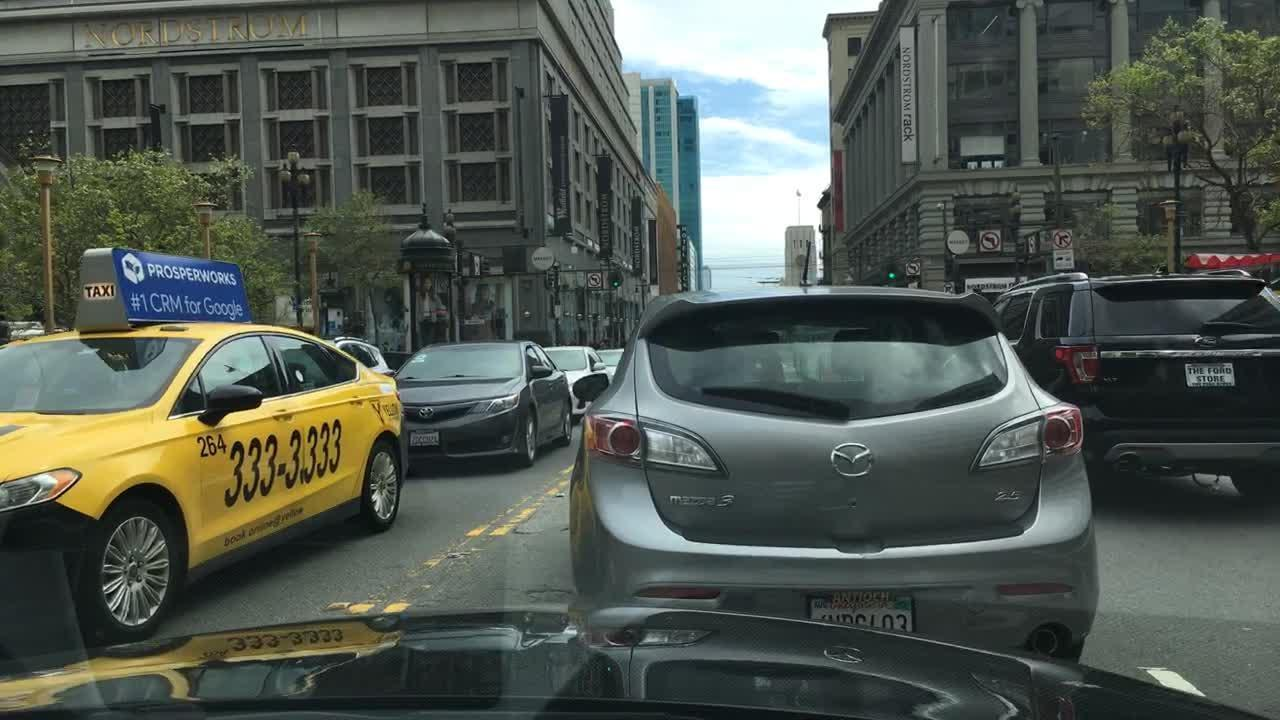Mazda: (822, 436, 884, 482)
Toyota: (419, 406, 436, 419)
ford: (1190, 333, 1225, 354)
